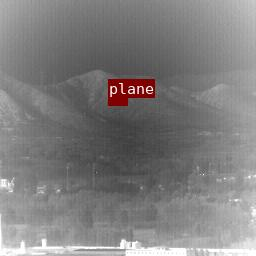plane: (108, 98, 127, 105)
